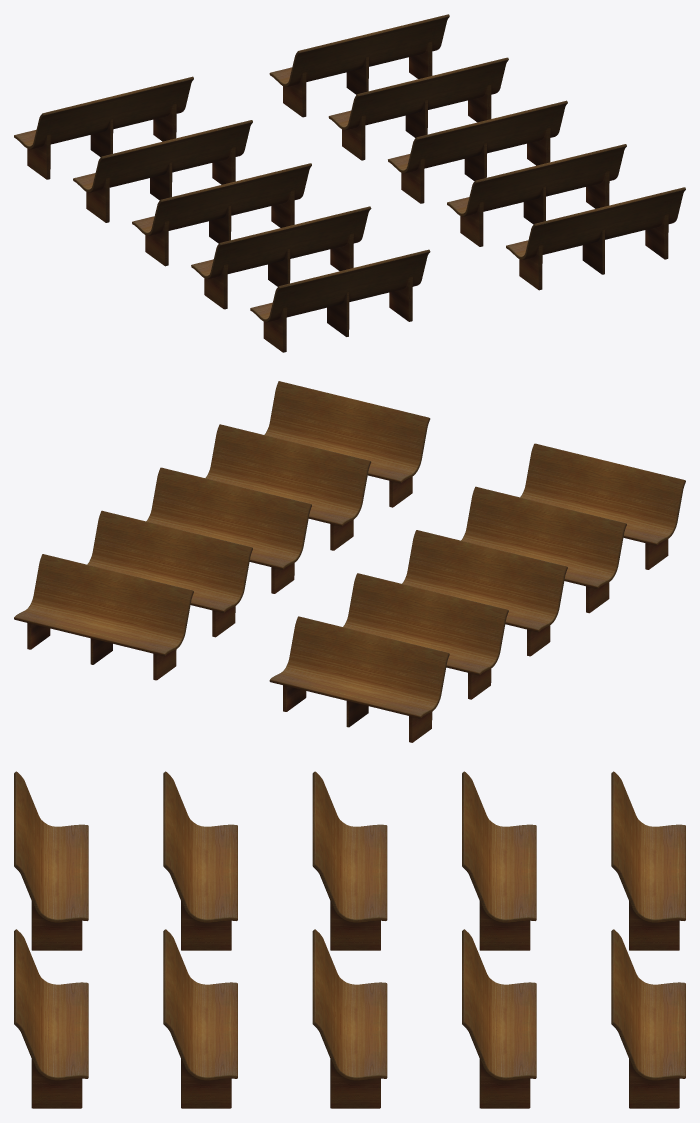
Rendered from lavka.glb.
3 renders of one model, top to bottom at view 1: azimuth 30°, elevation 25°; view 2: azimuth 150°, elevation 25°; view 3: azimuth 270°, elevation 25°, orthographic. The views are drawn at different scales.
Visible parts, largest first — view 1: Bench_0; view 2: Bench_0; view 3: Bench_0.
Boxes of the visible parts, box(x1,y1,x2,y2) form: Bench_0: box(14, 14, 685, 352); Bench_0: box(14, 381, 685, 742); Bench_0: box(14, 771, 685, 1108).
Bounding box in the file's own units: 6.36 × 1.1 × 7.2.
1 material, 1 textured.
